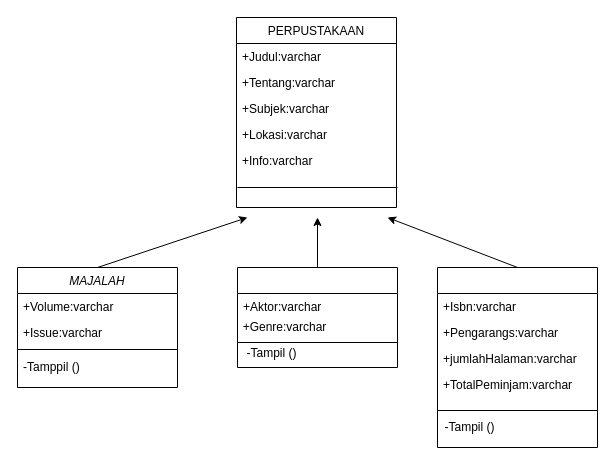
Some shapes in this 616 by 465 pixel diagram are drawn without their labels. The shapes that lost their labels are listed below. From the top down, each one's box as (x1, y1, x2, y2) in pixels, then its label:
(236, 266, 398, 368): DVD
(436, 266, 598, 448): BUKU
